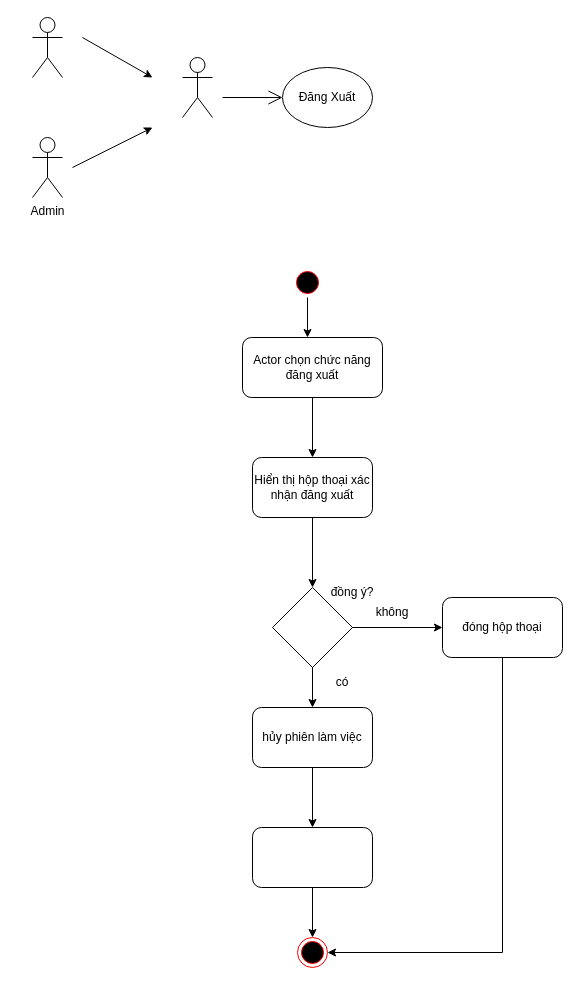
Some shapes in this 580 by 985 pixel diagram are drawn without their labels. Each missing label, with the centre of its shape:
"Nguoi" belongs at [197,87].
"NguoiDung" belongs at [47,47].
"quay về màn hình chính" belongs at [312,857].
